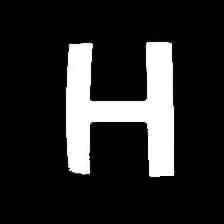LTR_H: (43, 22, 181, 189)
